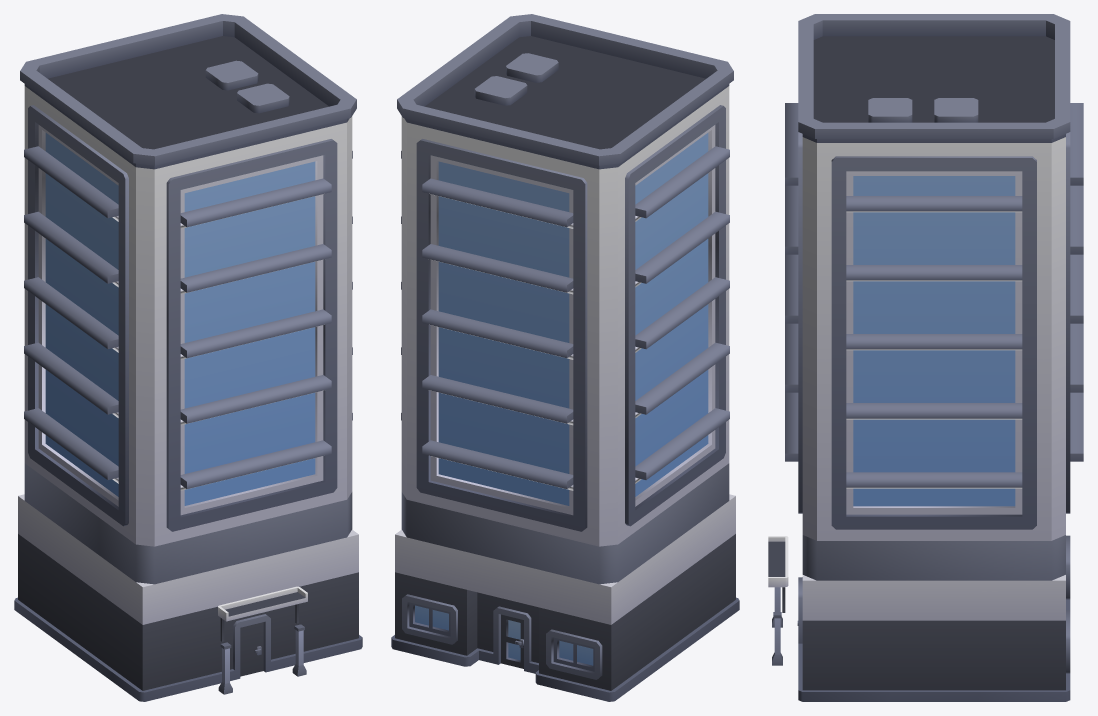
The model's file is office_tower_a.glb.
The picture shows the model from 3 angles, left to right: view 1: azimuth 30°, elevation 25°; view 2: azimuth 150°, elevation 25°; view 3: azimuth 270°, elevation 25°; orthographic projection. The views are drawn at different scales.
Parts seen in each view (by area): view 1: office_tower_a_building-skyscraper-a, detail-overhang-wide; view 2: office_tower_a_building-skyscraper-a; view 3: office_tower_a_building-skyscraper-a, detail-overhang-wide.
Boxes of the visible parts, x1,y1,x2,y2 form: office_tower_a_building-skyscraper-a: (14,14,362,701); detail-overhang-wide: (218,586,307,641); office_tower_a_building-skyscraper-a: (391,14,739,701); office_tower_a_building-skyscraper-a: (785,14,1083,701); detail-overhang-wide: (768,536,788,612).
Size of the model in its own units: 17.94 by 38 by 18.94.
4 materials, 4 textured.
